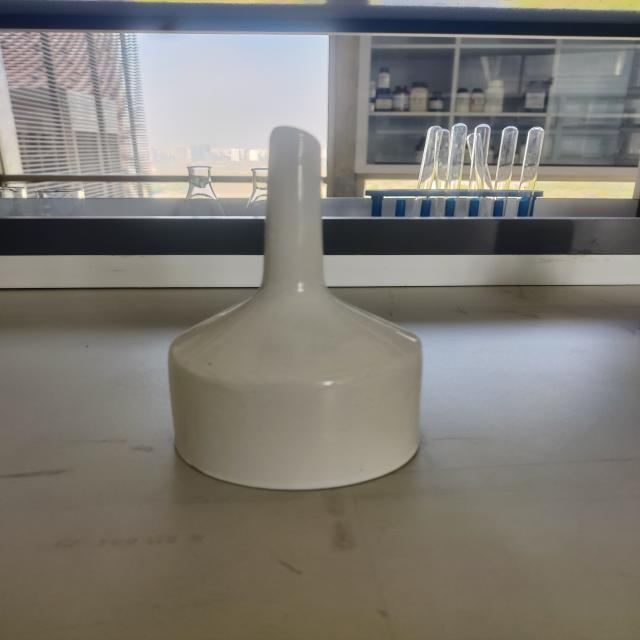Buchner_Funnel: (118, 101, 483, 513)
